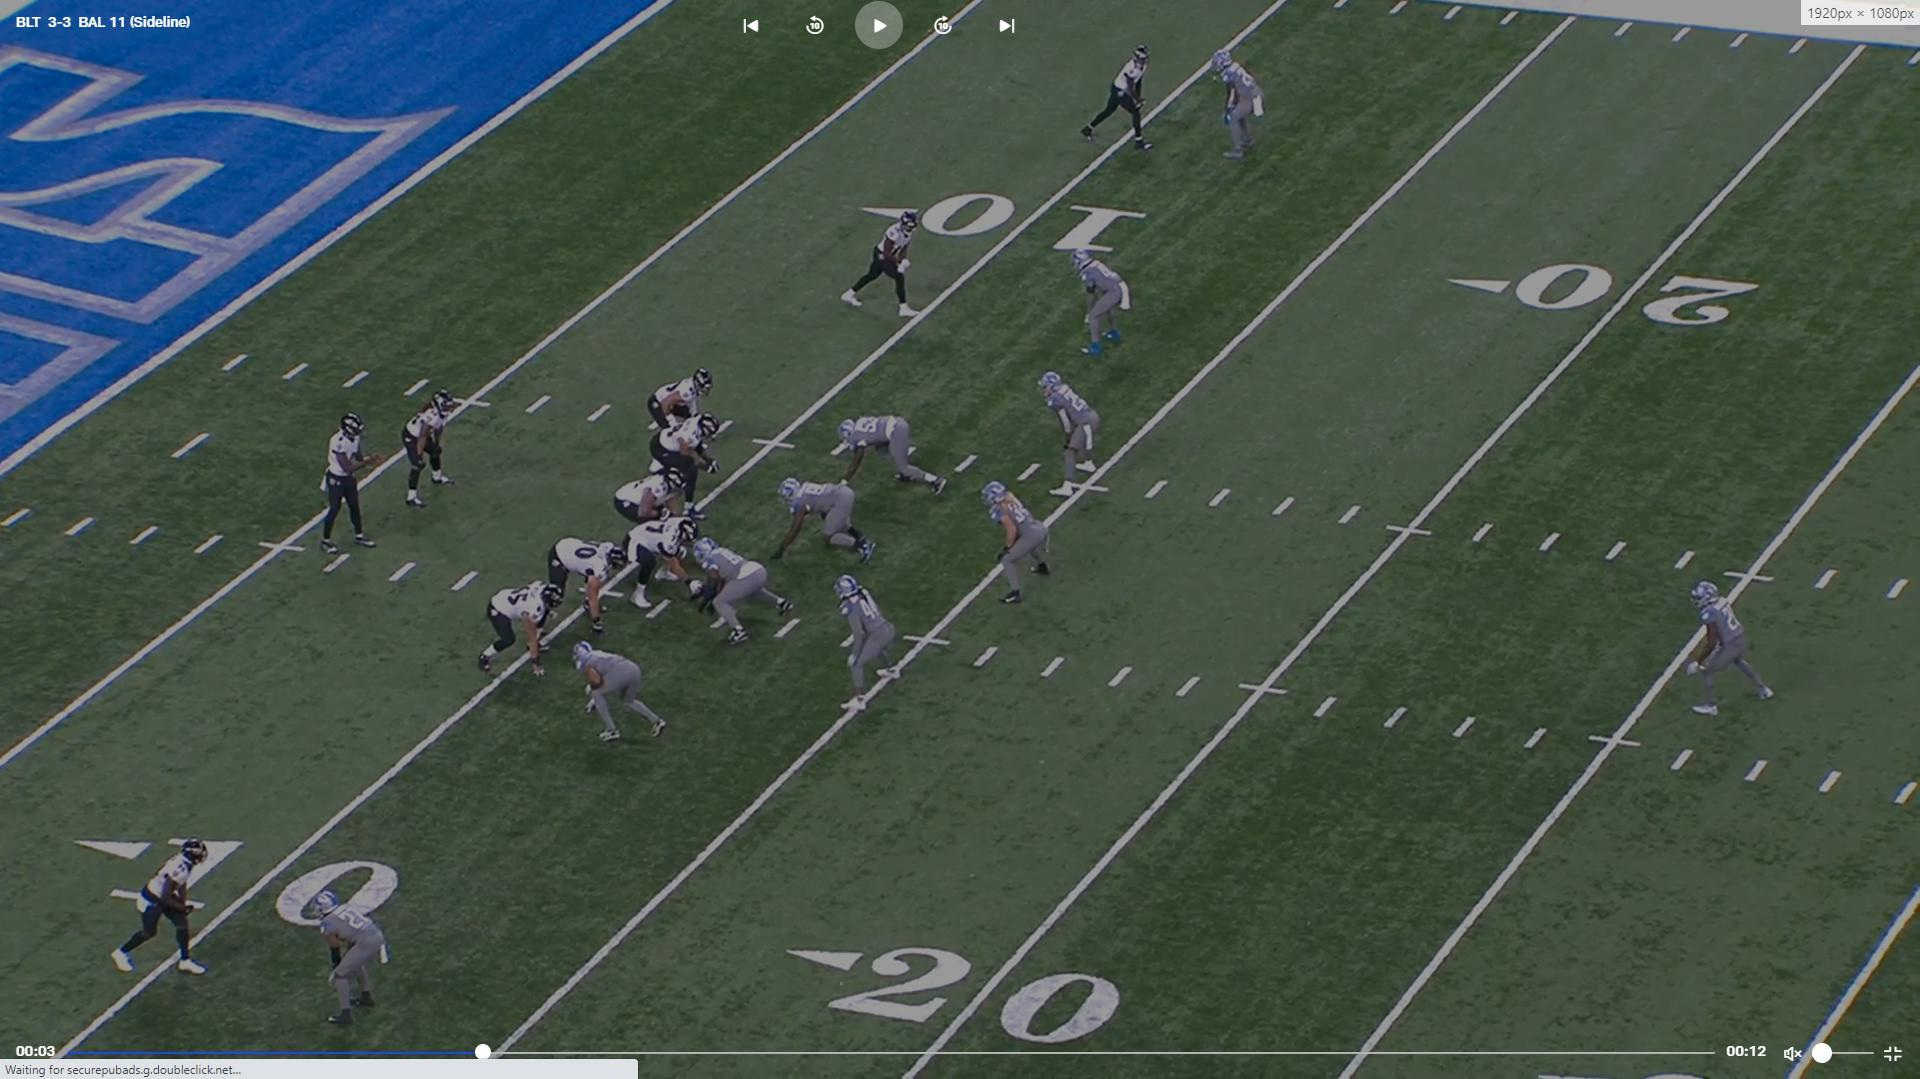player: (113, 843, 220, 982), (1681, 573, 1777, 718), (683, 535, 794, 646), (305, 887, 387, 1028), (570, 641, 673, 752), (837, 202, 929, 322), (318, 407, 388, 557), (829, 412, 945, 498), (547, 538, 653, 632), (1076, 39, 1158, 153), (478, 577, 567, 680), (781, 478, 878, 571), (1038, 368, 1106, 498), (834, 572, 895, 716), (982, 478, 1046, 609), (619, 512, 704, 610), (1062, 243, 1129, 359), (646, 414, 725, 511), (401, 384, 462, 508), (1211, 49, 1273, 169), (644, 365, 713, 459), (612, 466, 695, 533)
